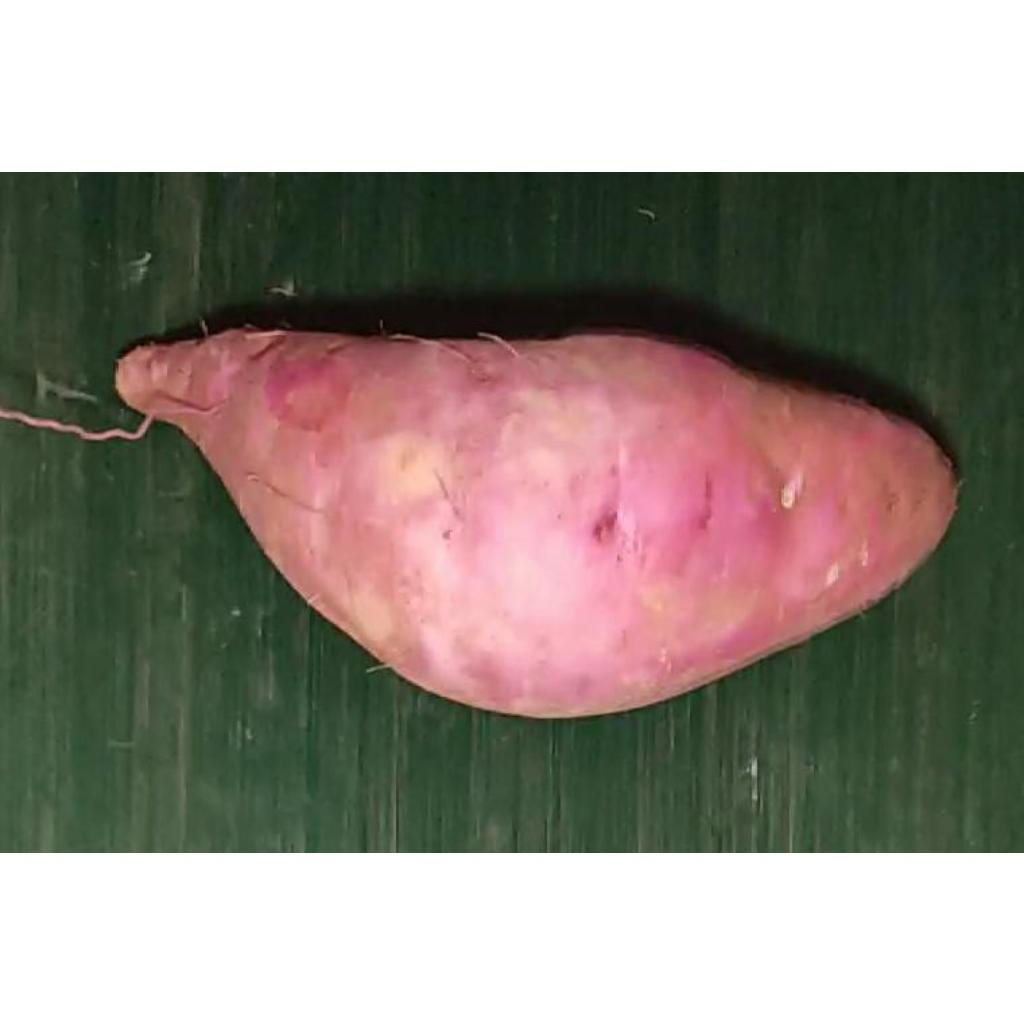Sweet Potato: (113, 327, 959, 722)
